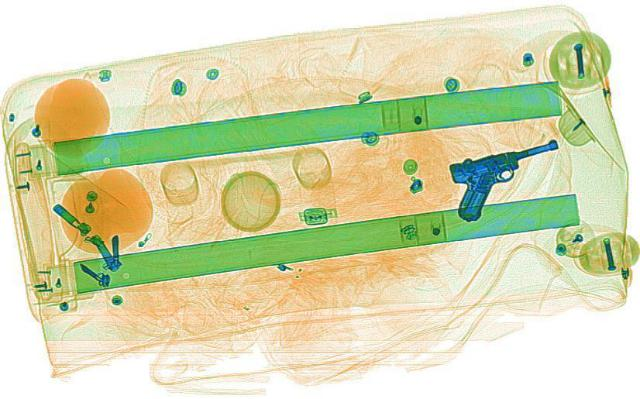Gun: (420, 136, 594, 221)
